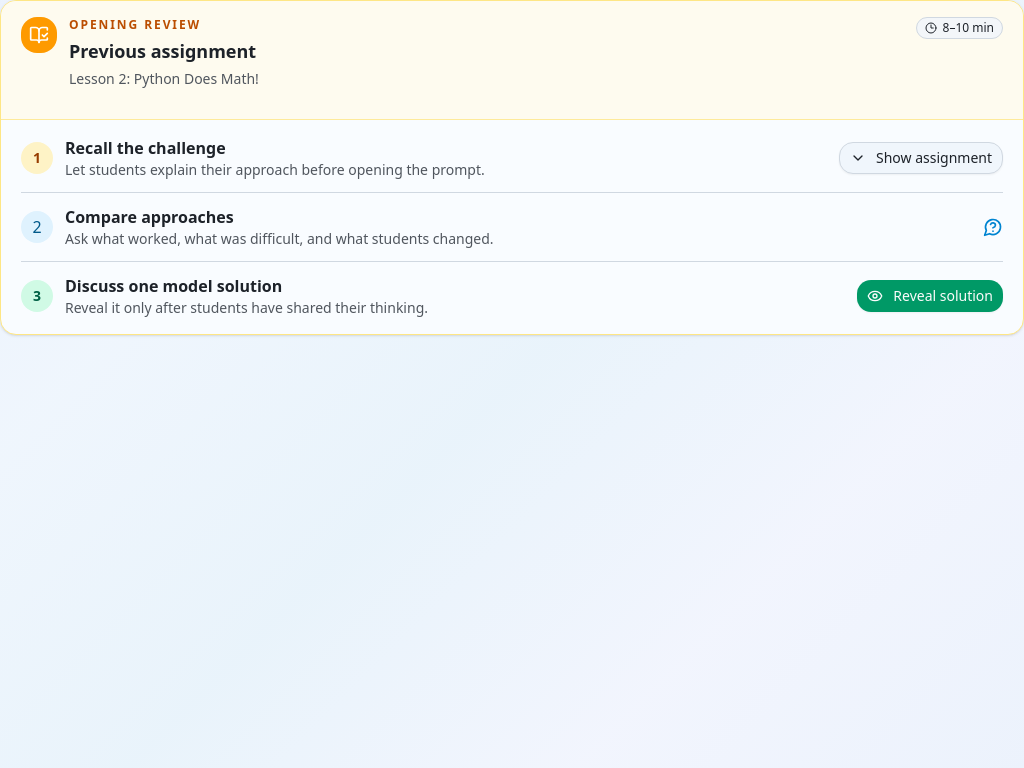
Test: assignment review › keeps the model answer hidden until the teacher reveals it
Expected: the text "Opening review" is shown, [69,16,201,33]
Expected: the heading "Previous assignment" is shown, [69,37,259,65]
Click the button "Show assignment" at {"x": 921, "y": 158}, box [839,142,1003,174]
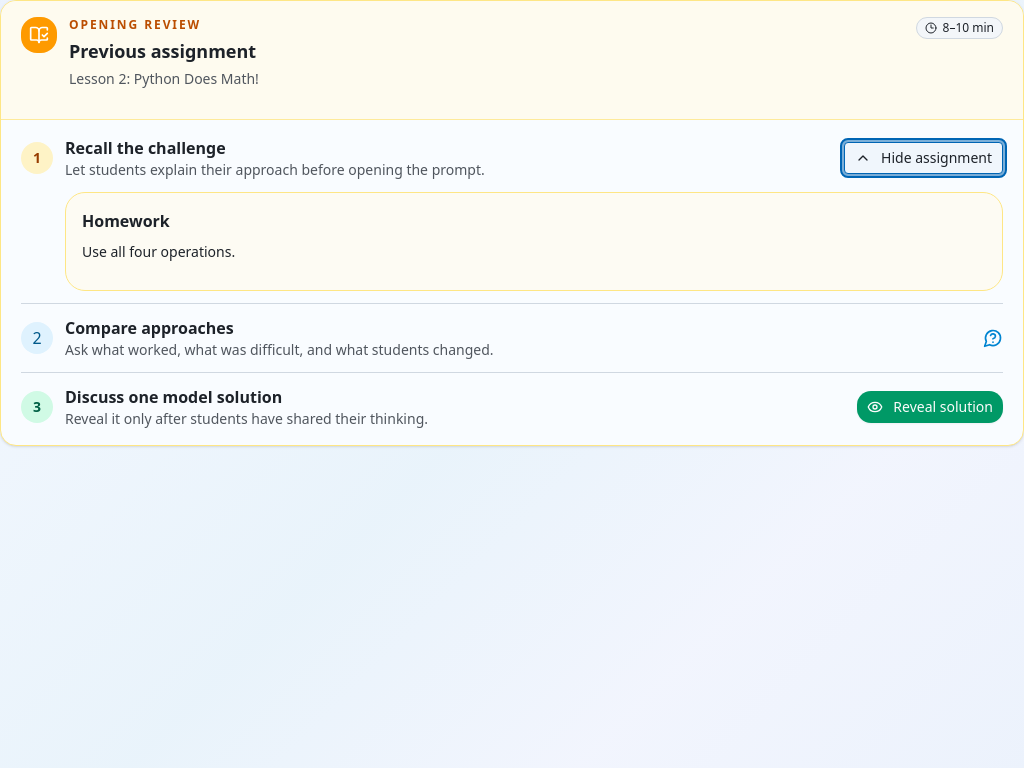
Result: the text "Use all four operations." is shown at [82,242,235,261]
Click the button "Reveal solution" at {"x": 930, "y": 407}, box [857,391,1003,423]
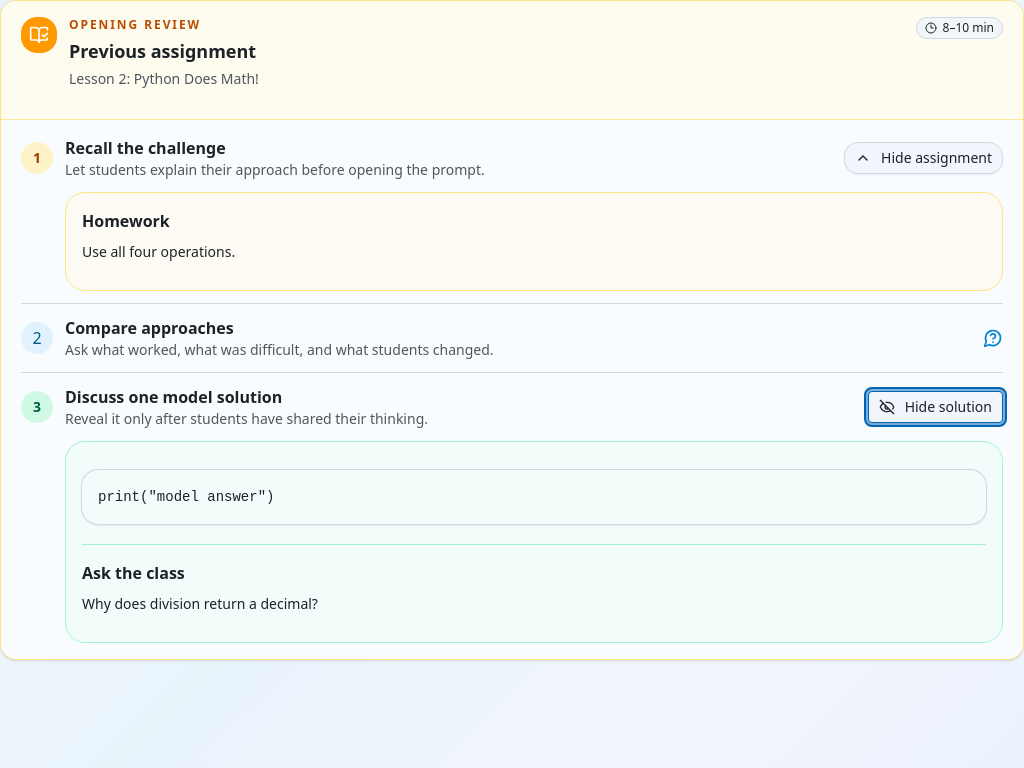
Result: the text "\"model answer\"" is shown at [148,489,266,505]
Result: the text "Why does division return a decimal?" is shown at [82,594,318,613]
